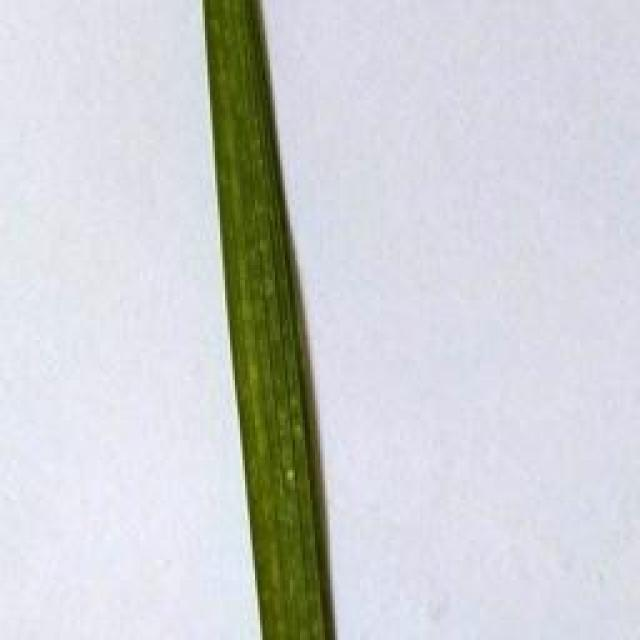Healthy-Plant: (199, 0, 337, 640)
